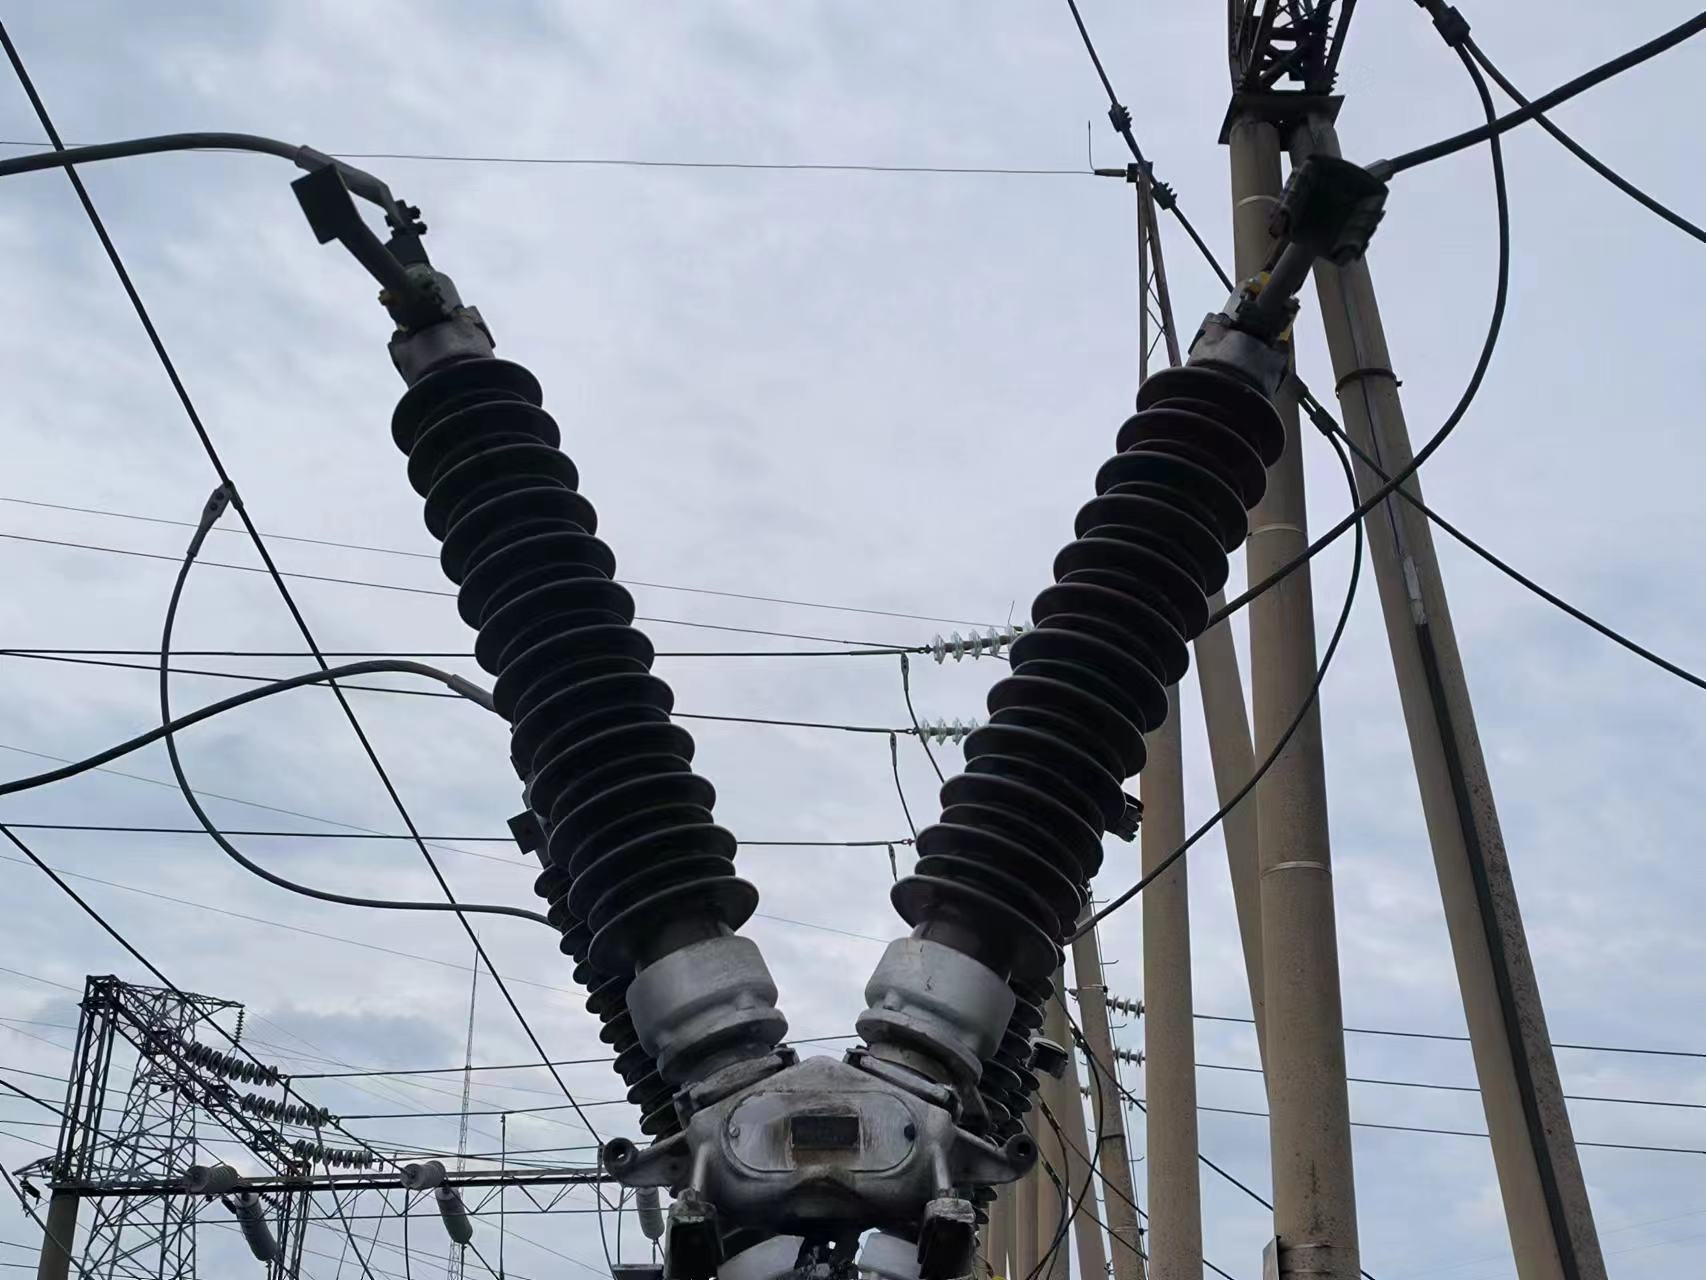Isolating switch: (284, 134, 1413, 1123)
